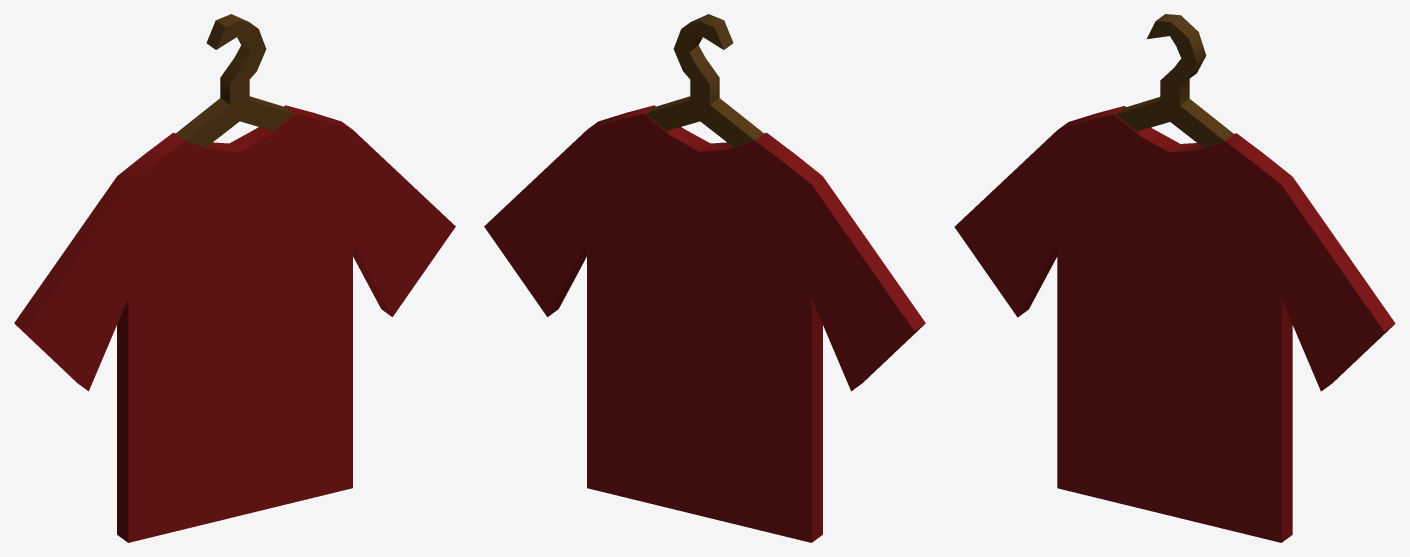
The model's file is ShirtHangar.fbx.
3 renders of one model, left to right at view 1: azimuth 30°, elevation 25°; view 2: azimuth 150°, elevation 25°; view 3: azimuth 330°, elevation 25°, orthographic.
Visible parts, largest first — view 1: pCube1, pCube4; view 2: pCube1, pCube4; view 3: pCube1, pCube4.
Boxes of the visible parts, x1,y1,x2,y2 form: pCube1: (14, 105, 455, 542); pCube4: (175, 14, 293, 147); pCube1: (484, 105, 925, 542); pCube4: (646, 14, 764, 147); pCube1: (954, 106, 1395, 542); pCube4: (1116, 14, 1233, 147).
Size of the model in its own units: 22.04 by 24.15 by 1.
1 material, 1 textured.
